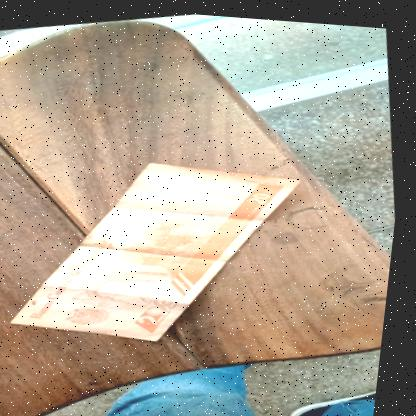twenty-back-vef: (0, 127, 329, 370)
